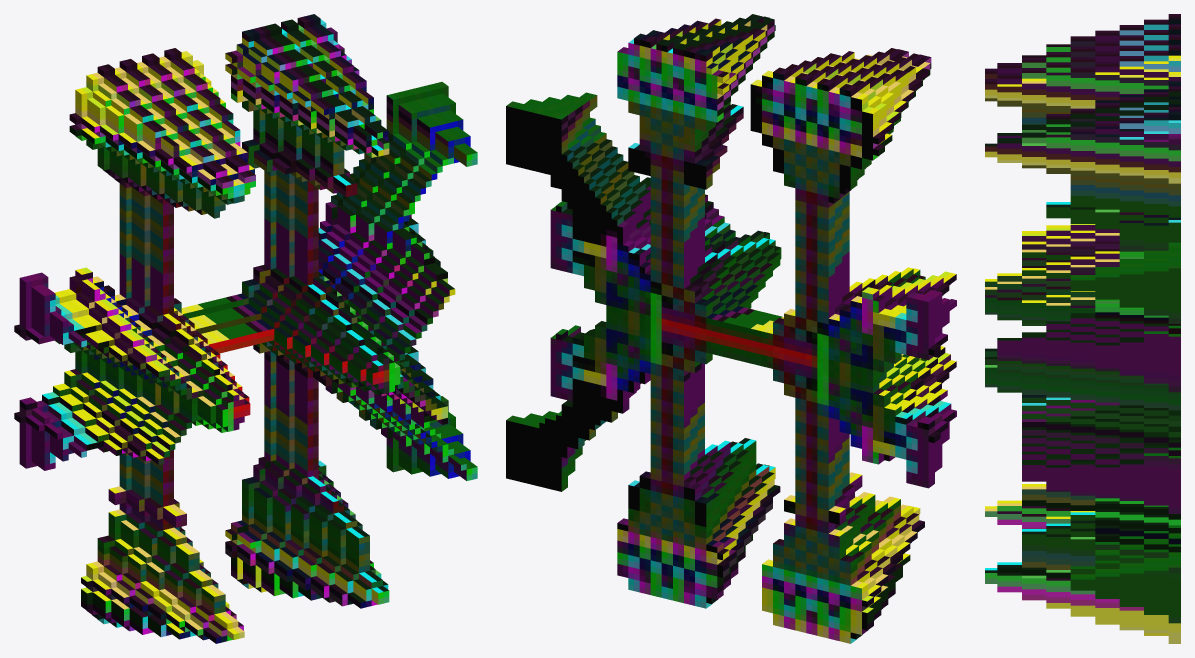
File: dreamlingP22.obj
3 views of the same model, side by side, from view 1: azimuth 30°, elevation 25°; view 2: azimuth 150°, elevation 25°; view 3: azimuth 270°, elevation 25° (orthographic). The views are drawn at different scales.
Size of the model in its own units: 77 by 95 by 32.
